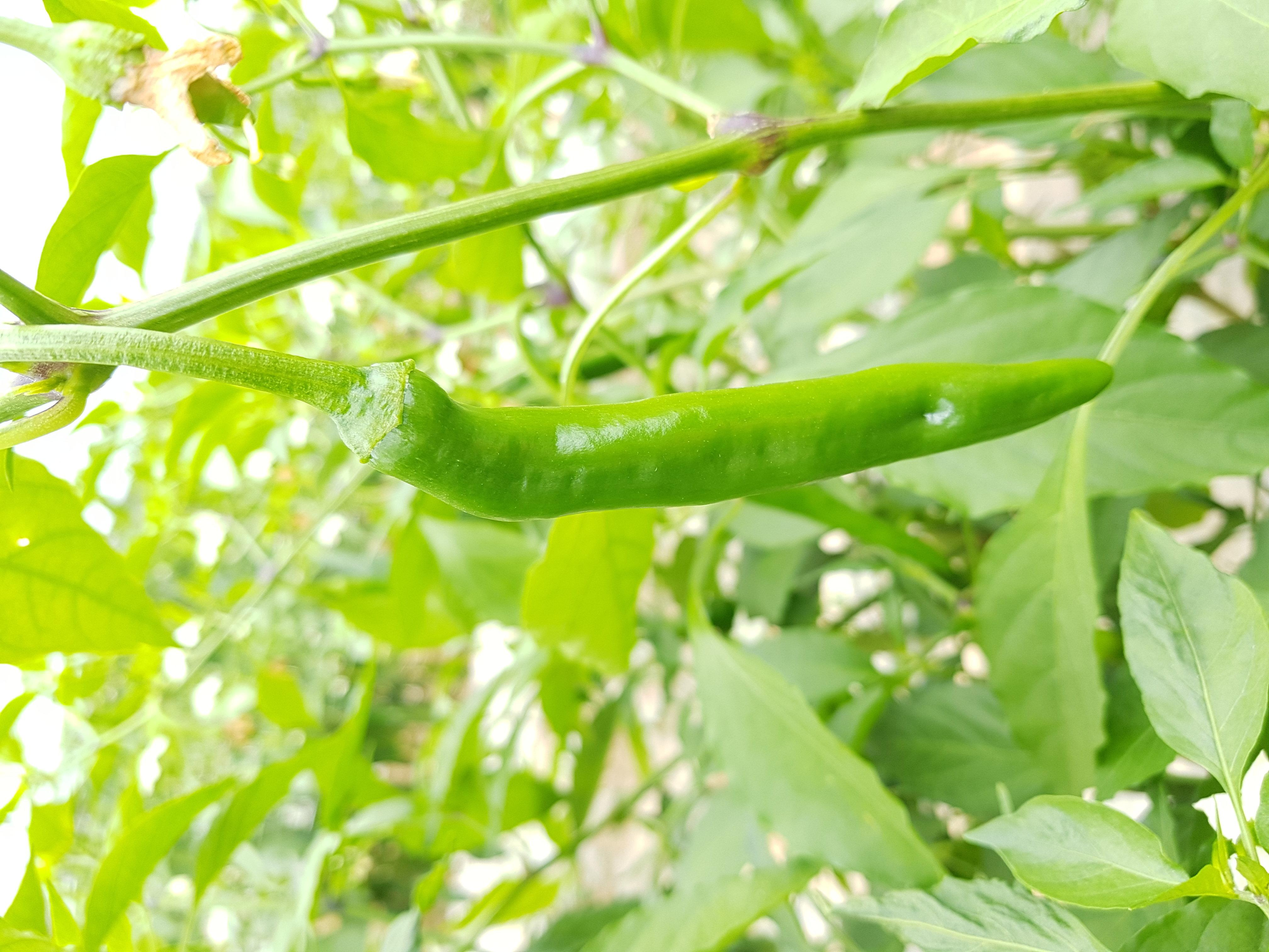Buah Cabai Sehat: (341, 344, 1126, 530)
